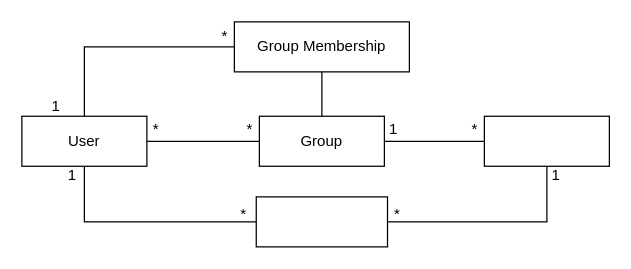
Some shapes in this 631 by 269 pixel diagram are drawn without their labels. The centre of each missing label's shape, as x and y in pixels:
Project: (x=546, y=140)
Project Authority: (x=321, y=221)
